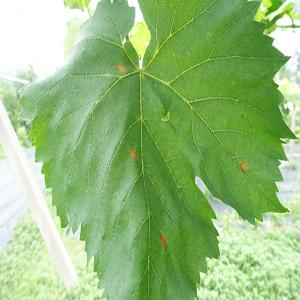Folha: (16, 0, 297, 298)
Fungo: (159, 230, 167, 252), (116, 62, 126, 74), (239, 159, 247, 174), (129, 146, 137, 160), (230, 150, 235, 158), (240, 113, 244, 118)
